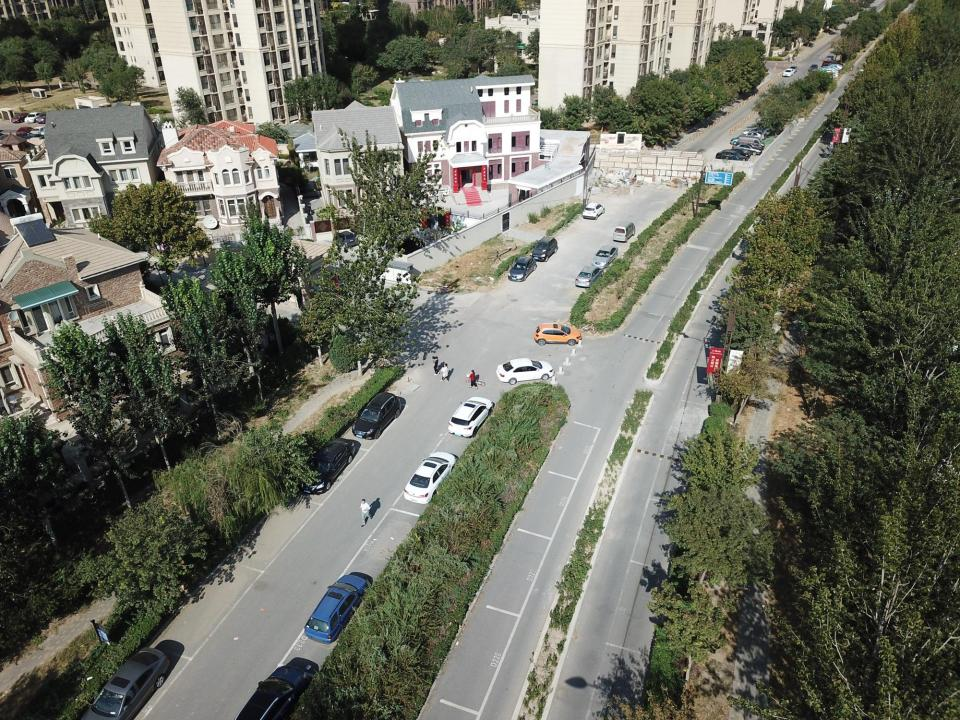car: (224, 657, 325, 720), (83, 648, 169, 720), (302, 573, 369, 645), (296, 438, 358, 494), (404, 451, 458, 504), (352, 390, 401, 441), (449, 396, 493, 438), (495, 358, 556, 384), (534, 322, 582, 346), (507, 256, 537, 282), (530, 235, 559, 261), (574, 266, 604, 290), (590, 244, 618, 268), (714, 148, 752, 160), (732, 144, 762, 156), (822, 62, 841, 78), (716, 153, 746, 162), (727, 134, 753, 144), (738, 131, 766, 140), (12, 112, 32, 124), (15, 126, 35, 138), (36, 111, 53, 124), (23, 112, 41, 123), (30, 126, 48, 135), (783, 68, 794, 78), (809, 63, 820, 72), (789, 64, 799, 73), (826, 55, 834, 62)
van: (613, 220, 636, 242), (582, 202, 606, 220), (334, 231, 357, 248), (736, 134, 762, 146), (743, 127, 773, 134)
